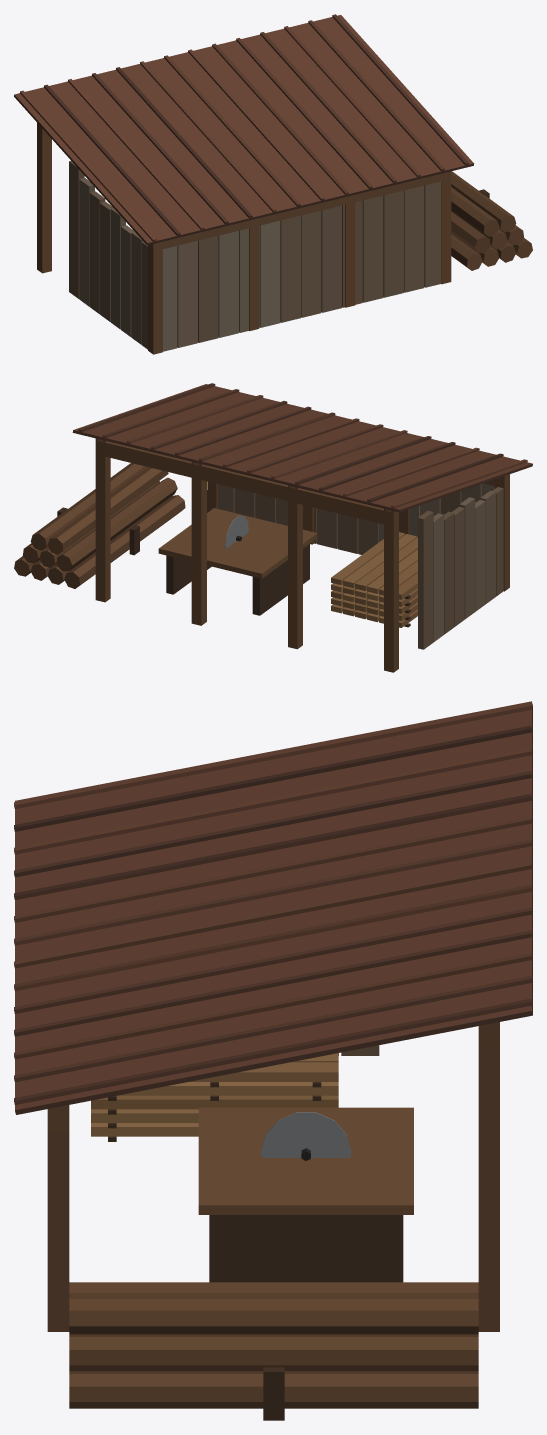
File: shed.glb
The picture shows the model from 3 angles, top to bottom: view 1: azimuth 30°, elevation 25°; view 2: azimuth 150°, elevation 25°; view 3: azimuth 270°, elevation 25°; orthographic projection. The views are drawn at different scales.
Visible parts, largest first — view 1: shed; view 2: shed; view 3: shed.
Part boxes in pixels (x1,y1,x2,y2): shed: [14, 14, 532, 354]; shed: [14, 383, 532, 672]; shed: [14, 701, 532, 1420].
Size of the model in its own units: 8.45 by 3.47 by 4.82.
